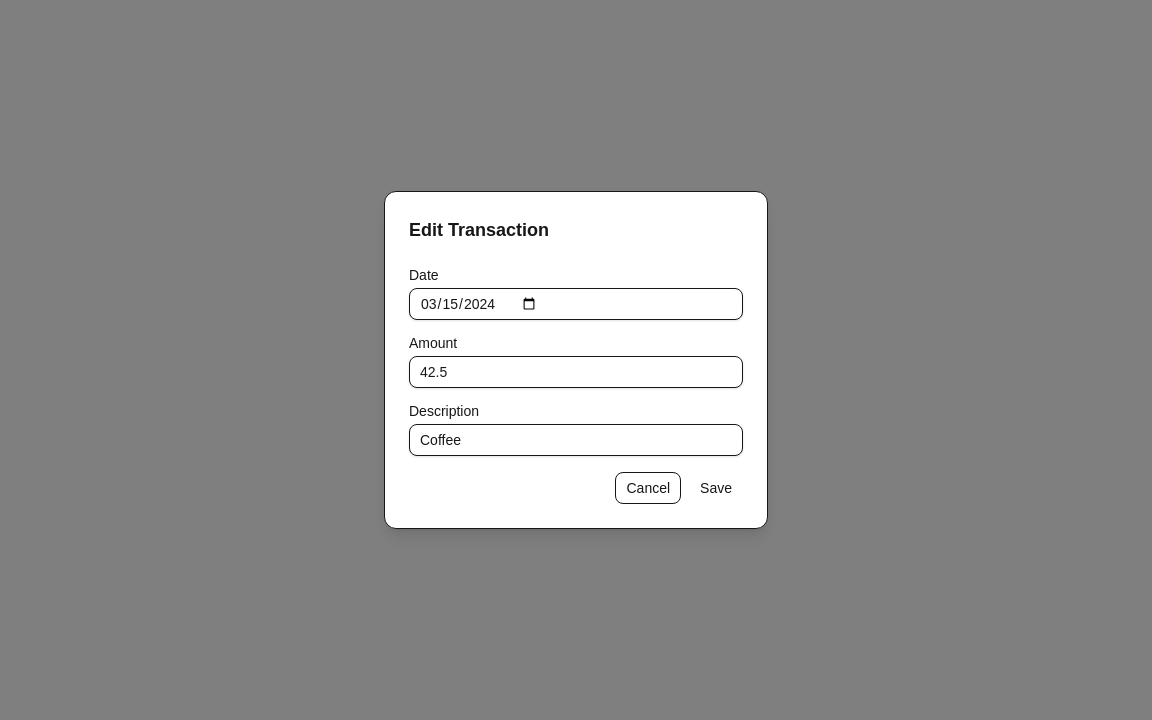
EditTransactionDialog container — validation › shows the amount-required error when the amount is empty on submit
Clear the number field labelled "Amount" at (576, 372), box [409, 356, 743, 388]
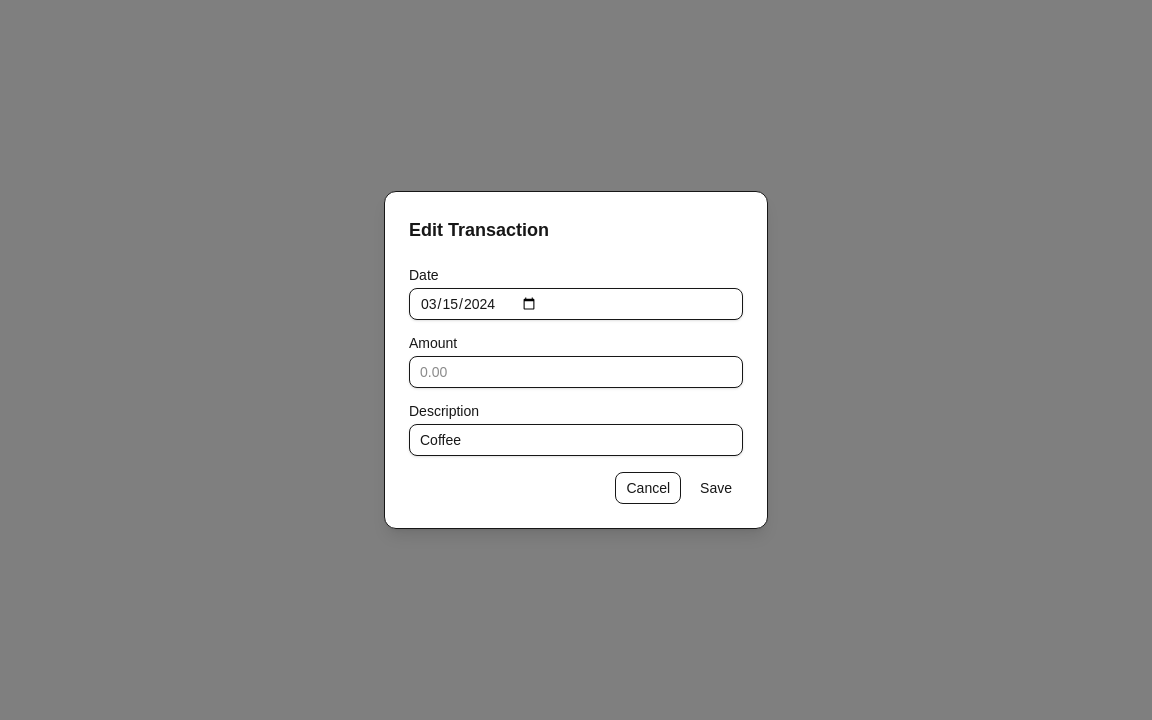
Click the button "Save" at (716, 488), box [689, 472, 743, 504]
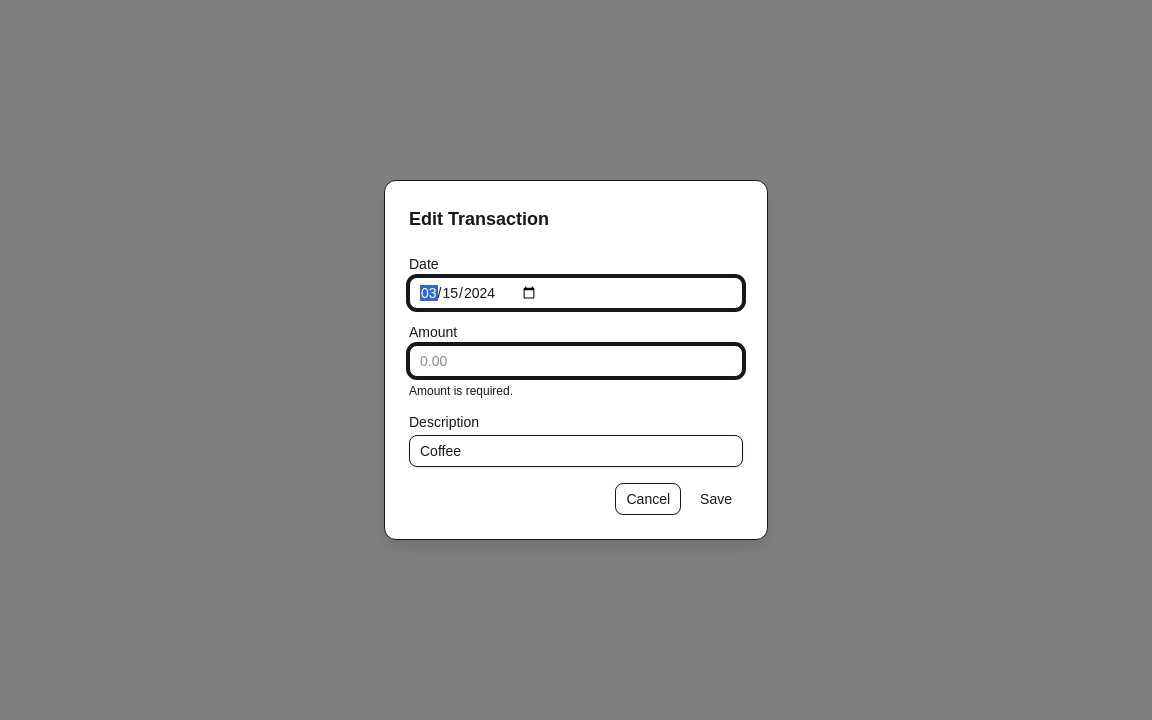
Now the text "Amount is required." is shown, box [409, 384, 513, 398]
